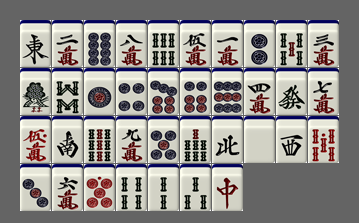0m: (20, 116, 51, 163)
0p: (84, 164, 115, 211)
0s: (308, 116, 339, 163)
1m: (212, 20, 243, 67)
1p: (84, 68, 115, 115)
1s: (20, 68, 51, 115)
1z: (20, 20, 51, 67)
2m: (52, 20, 83, 67)
2p: (244, 20, 275, 67)
2s: (148, 164, 179, 211)
2z: (52, 116, 83, 163)
3m: (308, 20, 339, 67)
3p: (20, 164, 51, 211)
3s: (180, 164, 211, 211)
3z: (276, 116, 307, 163)
4m: (244, 68, 275, 115)
4p: (116, 68, 147, 115)
4s: (116, 164, 147, 211)
4z: (212, 116, 243, 163)
5m: (180, 20, 211, 67)
5p: (148, 116, 179, 163)
5s: (276, 20, 307, 67)
5z: (244, 116, 275, 163)
6m: (52, 164, 83, 211)
6p: (180, 68, 211, 115)
6s: (148, 20, 179, 67)
6z: (276, 68, 307, 115)
7m: (308, 68, 339, 115)
7p: (148, 68, 179, 115)
7s: (180, 116, 211, 163)
7z: (212, 164, 243, 211)
8m: (116, 20, 147, 67)
8p: (84, 20, 115, 67)
8s: (52, 68, 83, 115)
9m: (116, 116, 147, 163)
9p: (212, 68, 243, 115)
9s: (84, 116, 115, 163)
